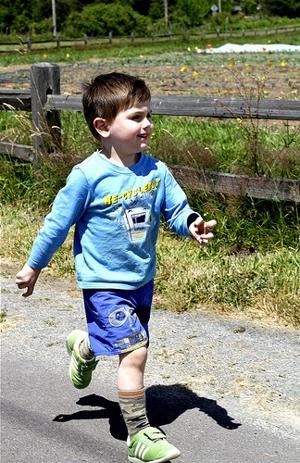person: (17, 71, 216, 463)
